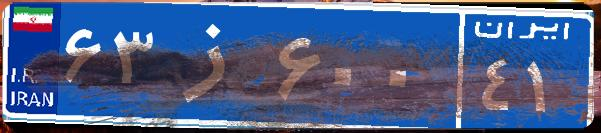0: (385, 28, 445, 110), (330, 28, 385, 110)
1: (525, 38, 570, 115)
3: (110, 28, 158, 105)
4: (475, 38, 525, 113)
6: (273, 28, 330, 110), (57, 26, 110, 107)
ز: (158, 15, 273, 115)
